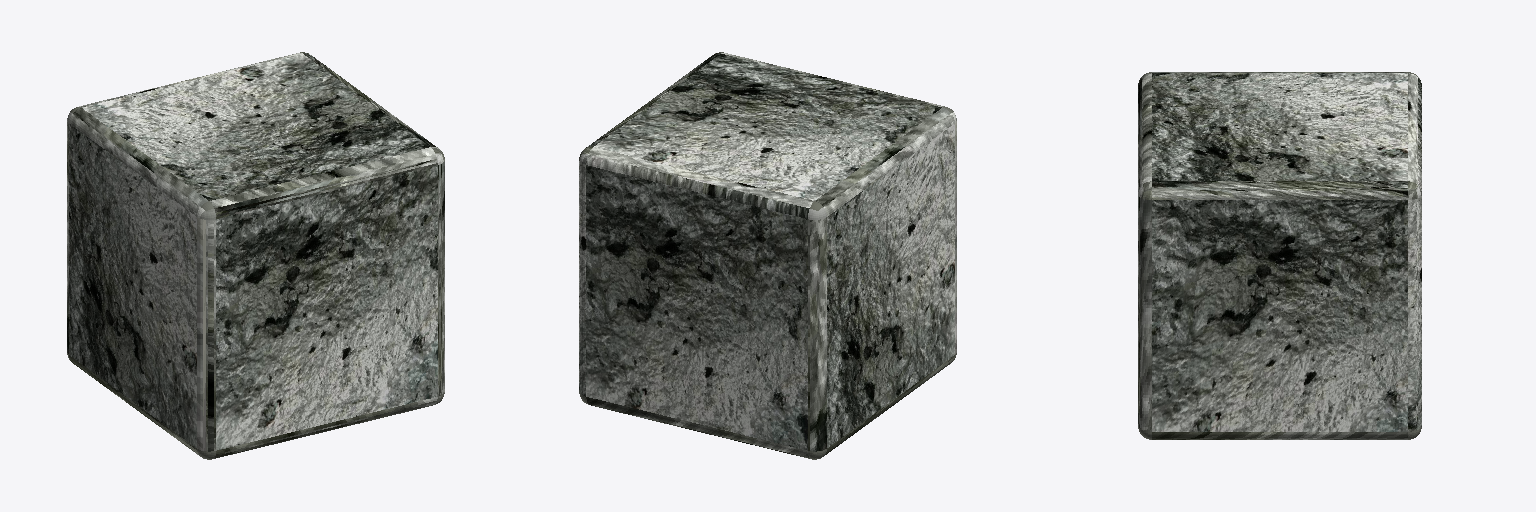
3 renders of one model, left to right at view 1: azimuth 30°, elevation 25°; view 2: azimuth 150°, elevation 25°; view 3: azimuth 270°, elevation 25°, orthographic.
Visible parts, largest first — view 1: Cube; view 2: Cube; view 3: Cube.
Part boxes in pixels (bbox=[...]): Cube: bbox=[67, 52, 444, 459]; Cube: bbox=[579, 52, 956, 459]; Cube: bbox=[1138, 72, 1421, 439].
Size of the model in its own units: 2 by 2 by 2.
Materials: 1 (1 with a texture image).